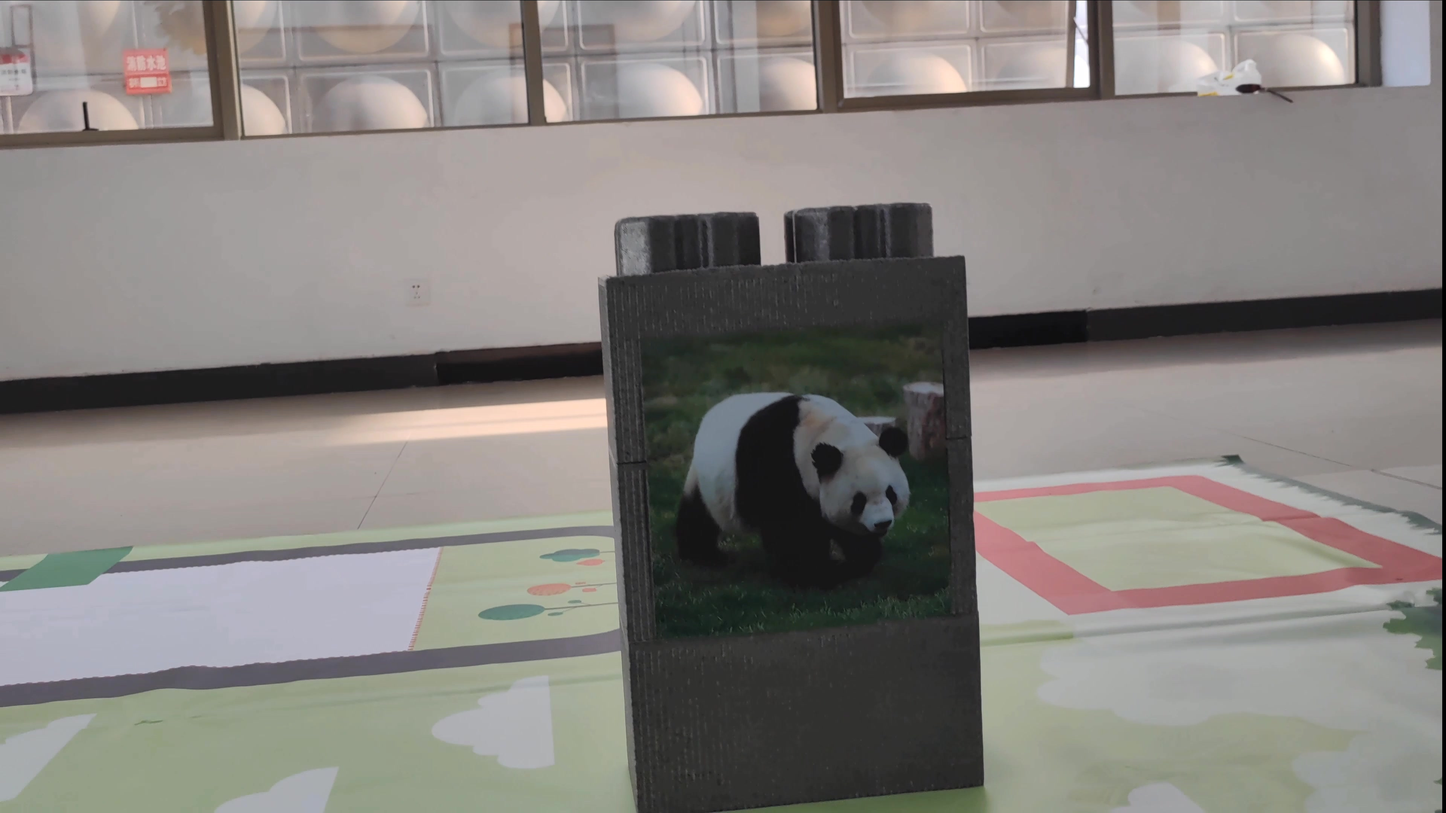panda: (654, 361, 937, 619)
